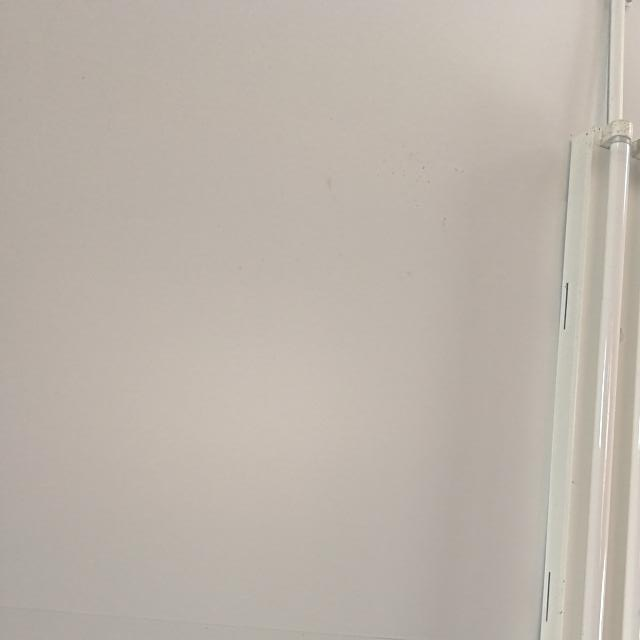fluorescent tube: (479, 106, 640, 640)
